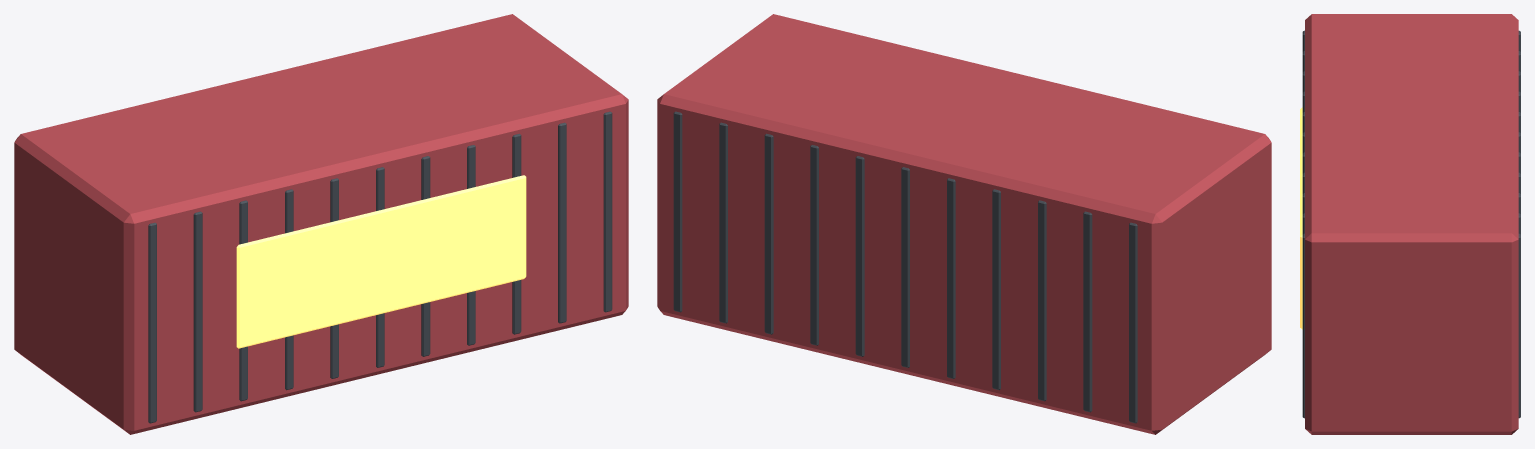
File: la-shippingcontainer.glb
3 views of the same model, side by side, from view 1: azimuth 30°, elevation 25°; view 2: azimuth 150°, elevation 25°; view 3: azimuth 270°, elevation 25° (orthographic). The views are drawn at different scales.
Parts seen in each view (by area): view 1: Container_Body, AD_SURFACE_CONTAINER, Container_Rib.001, Container_Rib.010, Container_Rib, Container_Rib.009, Container_Rib.008, Container_Rib.006, Container_Rib.003, Container_Rib.002, Container_Rib.005, Container_Rib.007 (+1 smaller); view 2: Container_Body, Container_Rib.001, Container_Rib.008, Container_Rib.010, Container_Rib.006, Container_Rib, Container_Rib.003, Container_Rib.009, Container_Rib.002, Container_Rib.005, Container_Rib.007, Container_Rib.004; view 3: Container_Body, Container_Rib.010, AD_SURFACE_CONTAINER.
Boxes of the visible parts, bbox=[...] form: Container_Body: bbox=[14, 14, 628, 434]; AD_SURFACE_CONTAINER: bbox=[236, 175, 526, 348]; Container_Rib.001: bbox=[193, 211, 202, 412]; Container_Rib.010: bbox=[603, 111, 612, 312]; Container_Rib: bbox=[148, 222, 156, 423]; Container_Rib.009: bbox=[558, 122, 566, 323]; Container_Rib.008: bbox=[512, 133, 521, 334]; Container_Rib.006: bbox=[421, 156, 430, 356]; Container_Rib.003: bbox=[285, 189, 293, 390]; Container_Rib.002: bbox=[239, 200, 247, 401]; Container_Rib.005: bbox=[376, 167, 384, 367]; Container_Rib.007: bbox=[467, 145, 475, 345]; Container_Body: bbox=[657, 14, 1271, 434]; Container_Rib.001: bbox=[1083, 211, 1092, 412]; Container_Rib.008: bbox=[764, 133, 773, 334]; Container_Rib.010: bbox=[673, 111, 682, 312]; Container_Rib.006: bbox=[855, 156, 864, 356]; Container_Rib: bbox=[1129, 222, 1137, 423]; Container_Rib.003: bbox=[992, 189, 1000, 390]; Container_Rib.009: bbox=[719, 122, 727, 323]; Container_Rib.002: bbox=[1038, 200, 1046, 401]; Container_Rib.005: bbox=[901, 167, 909, 367]; Container_Rib.007: bbox=[810, 145, 818, 345]; Container_Rib.004: bbox=[947, 178, 955, 378]; Container_Body: bbox=[1305, 14, 1518, 434]; Container_Rib.010: bbox=[1302, 233, 1520, 418]; AD_SURFACE_CONTAINER: bbox=[1300, 107, 1302, 329].
Size of the model in its own units: 6.1 by 2.55 by 2.53.
